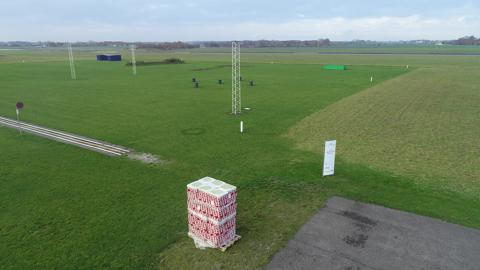RockwoolPallet: (186, 176, 238, 248)
